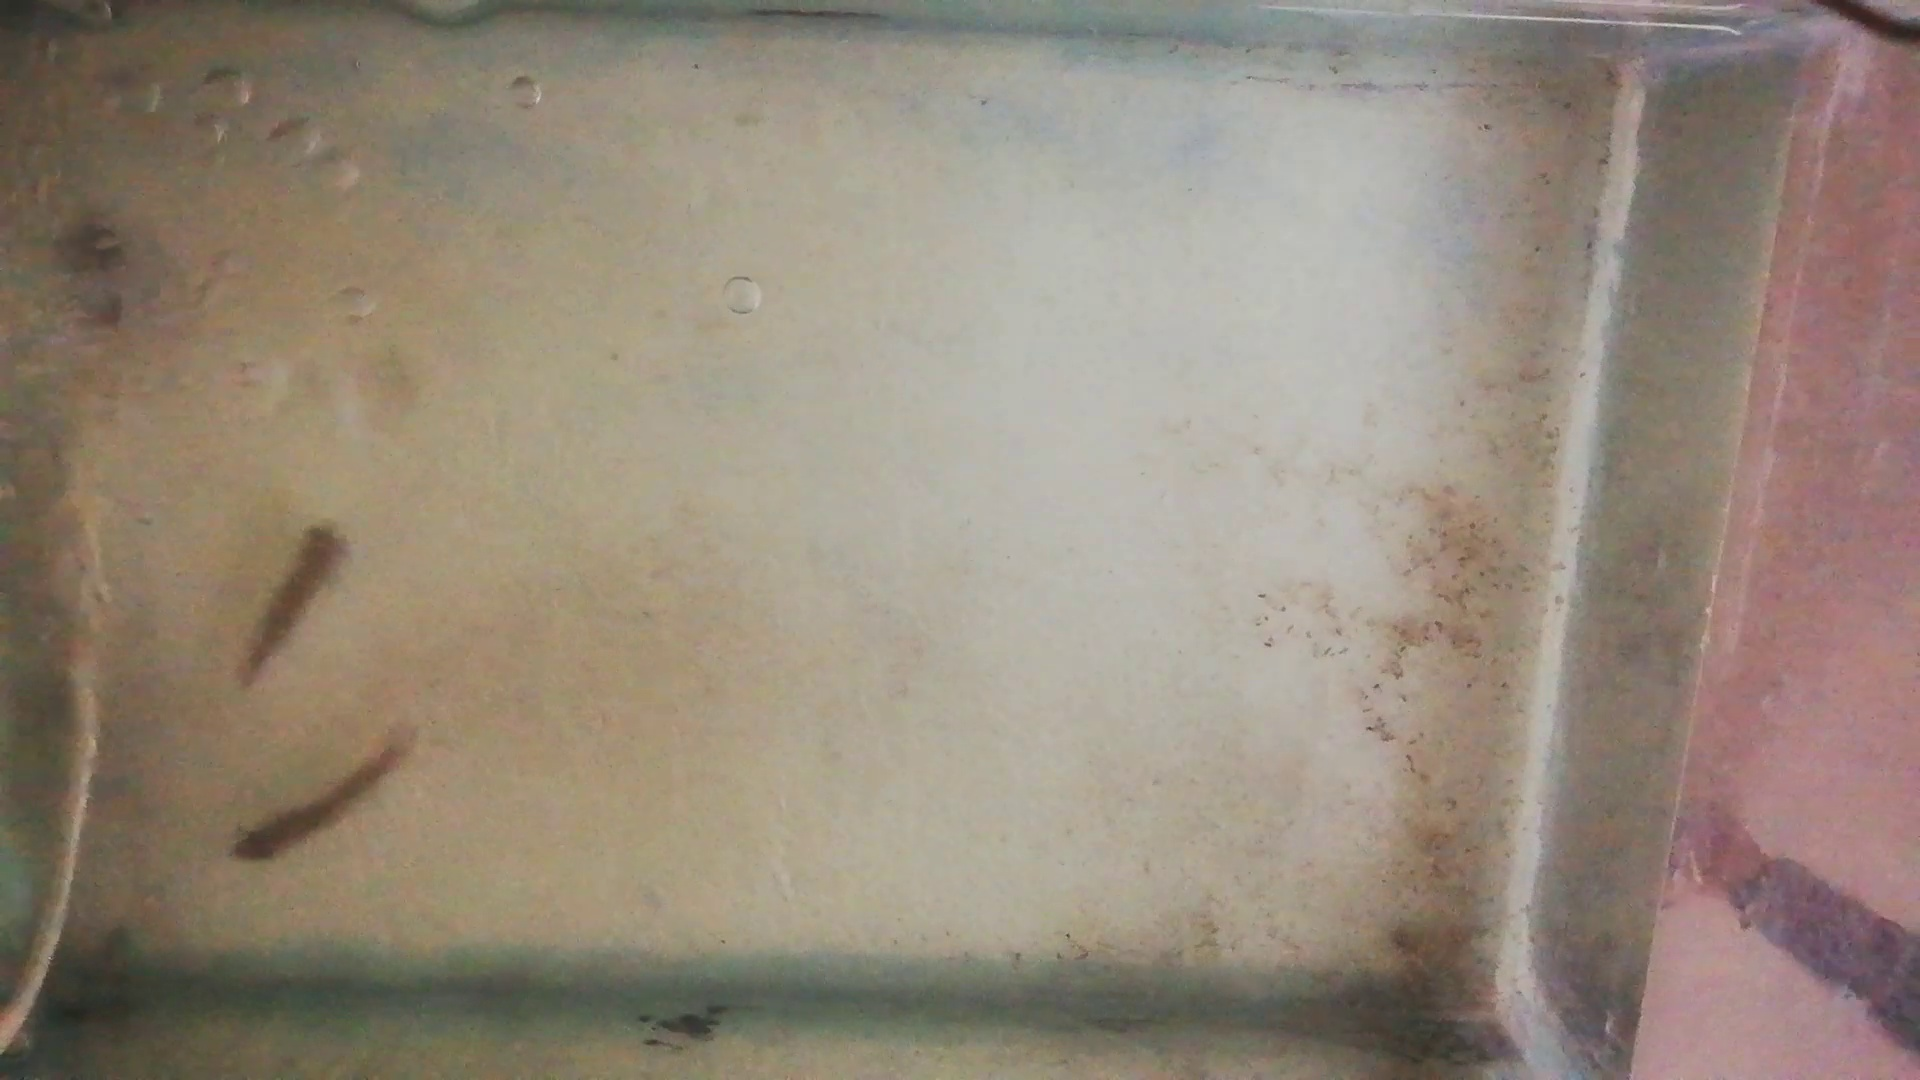fish: (229, 738, 404, 864), (237, 524, 351, 683)
